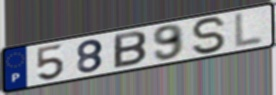5: (35, 43, 66, 81)
8: (75, 38, 105, 75)
9: (152, 22, 188, 62)
B: (112, 29, 149, 71)
L: (232, 11, 265, 50)
S: (189, 15, 229, 56)
